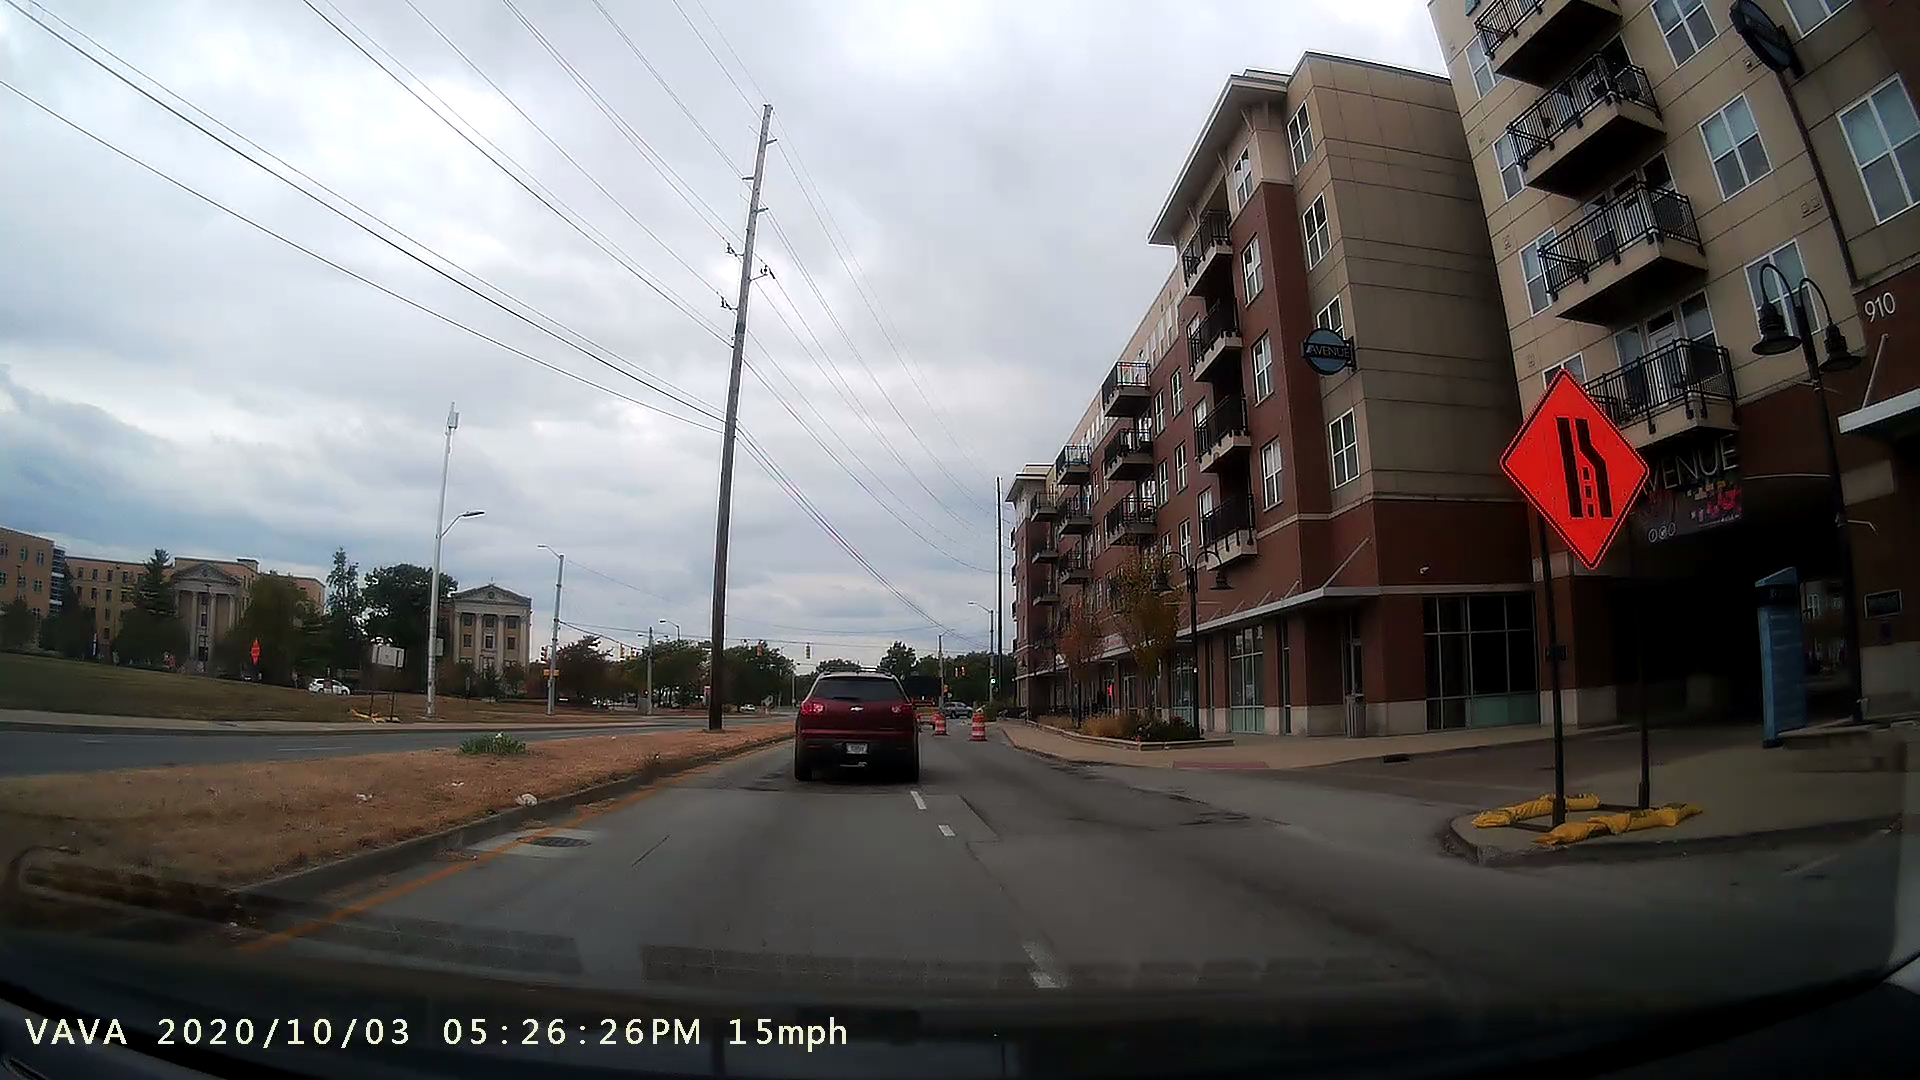ttcs_right_lane_reduction: (1495, 361, 1665, 839)
